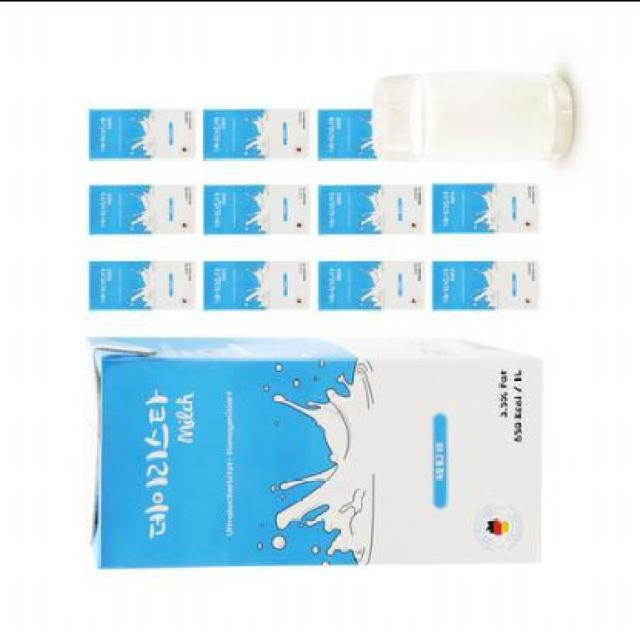tetra: (49, 323, 557, 585)
